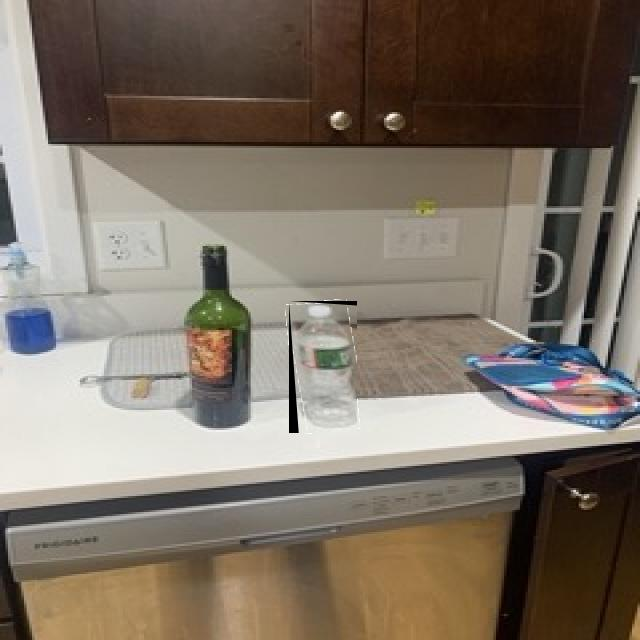water_bottle: (289, 301, 357, 433)
